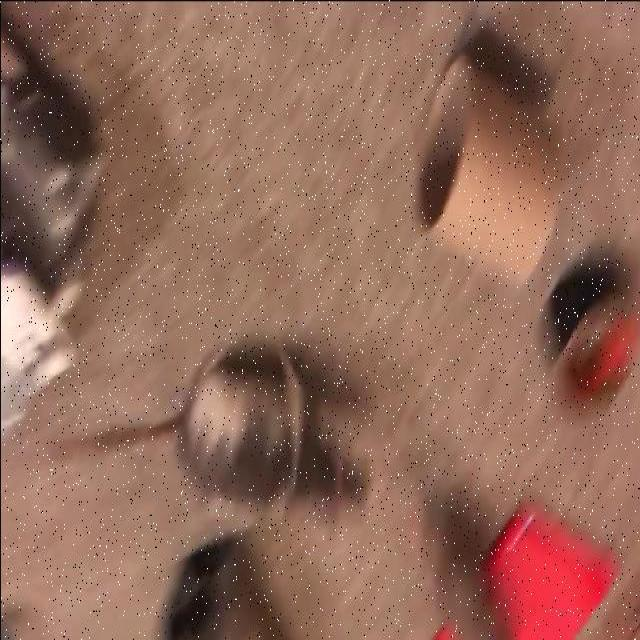rat: (175, 340, 371, 535)
